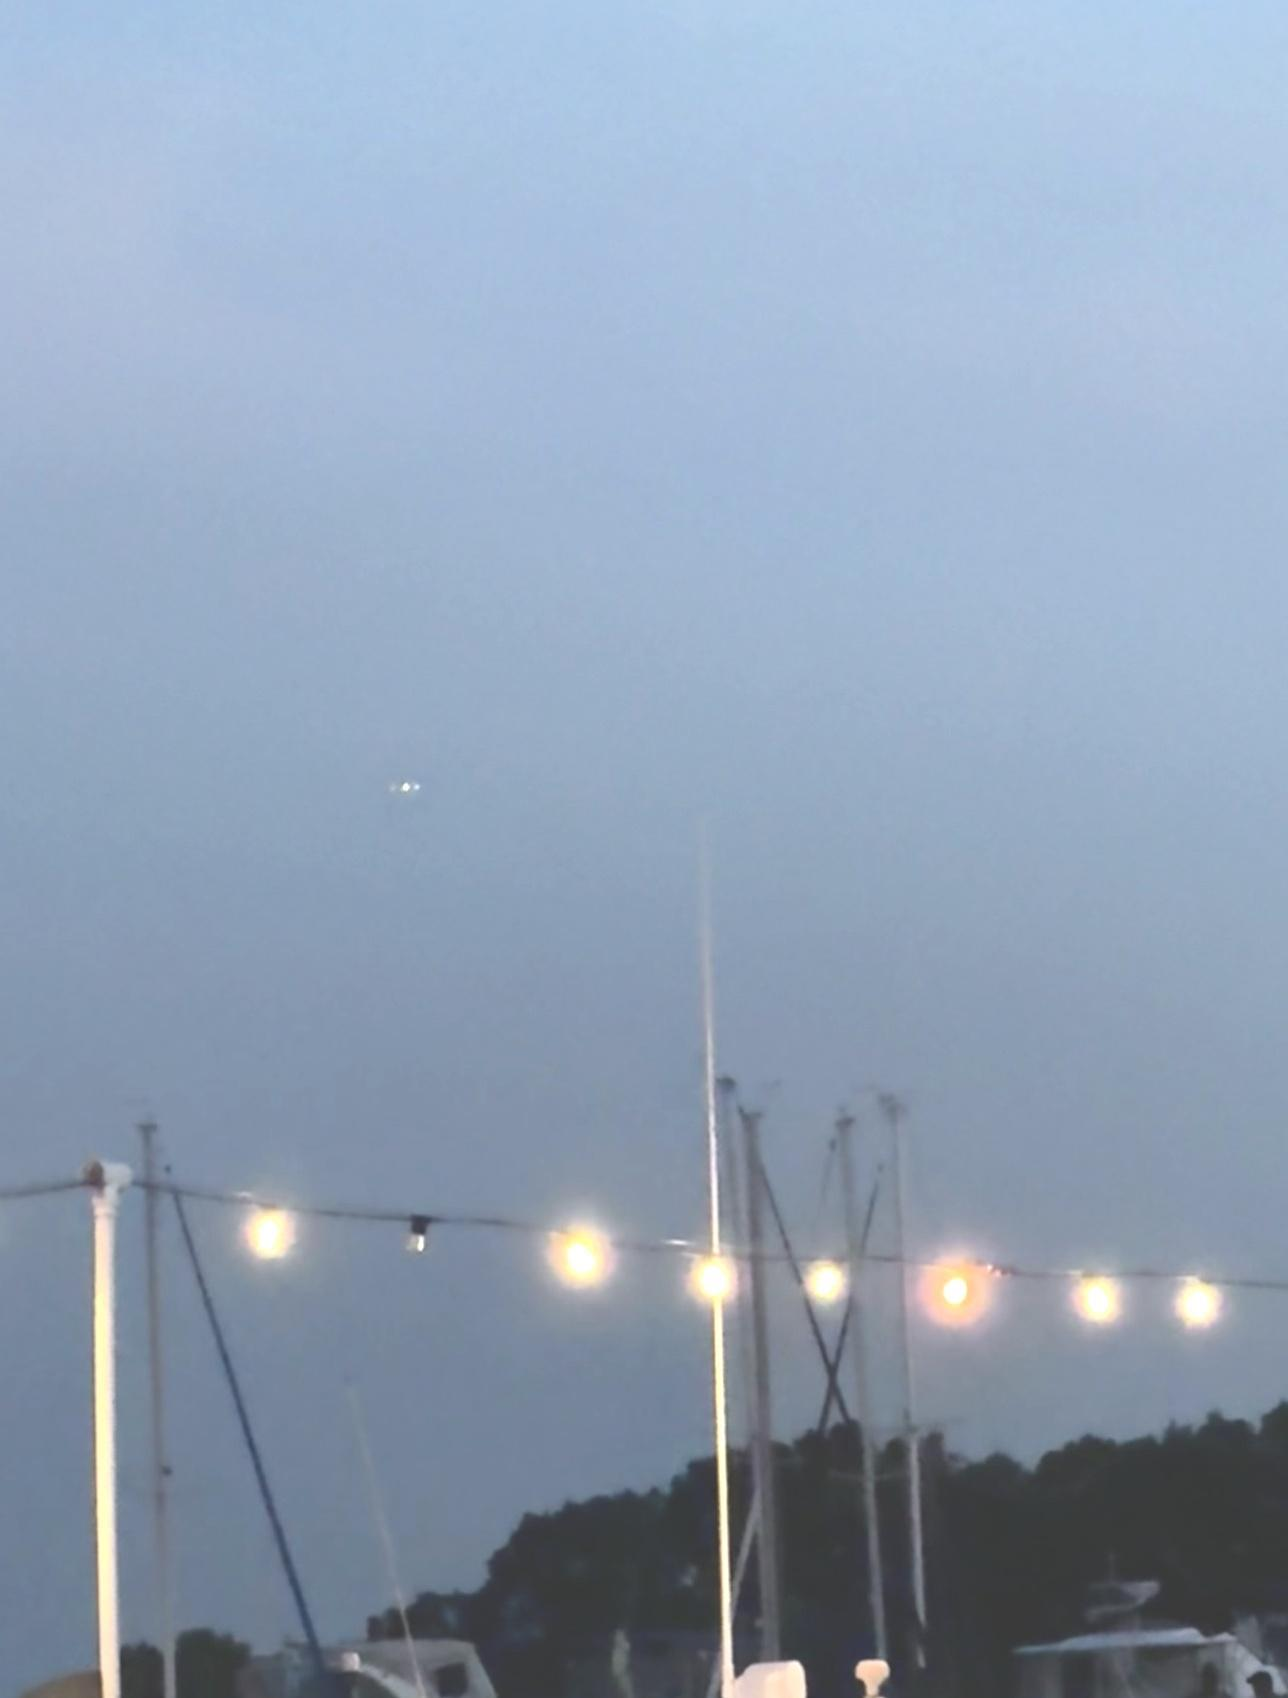Plane: (369, 758, 453, 814)
